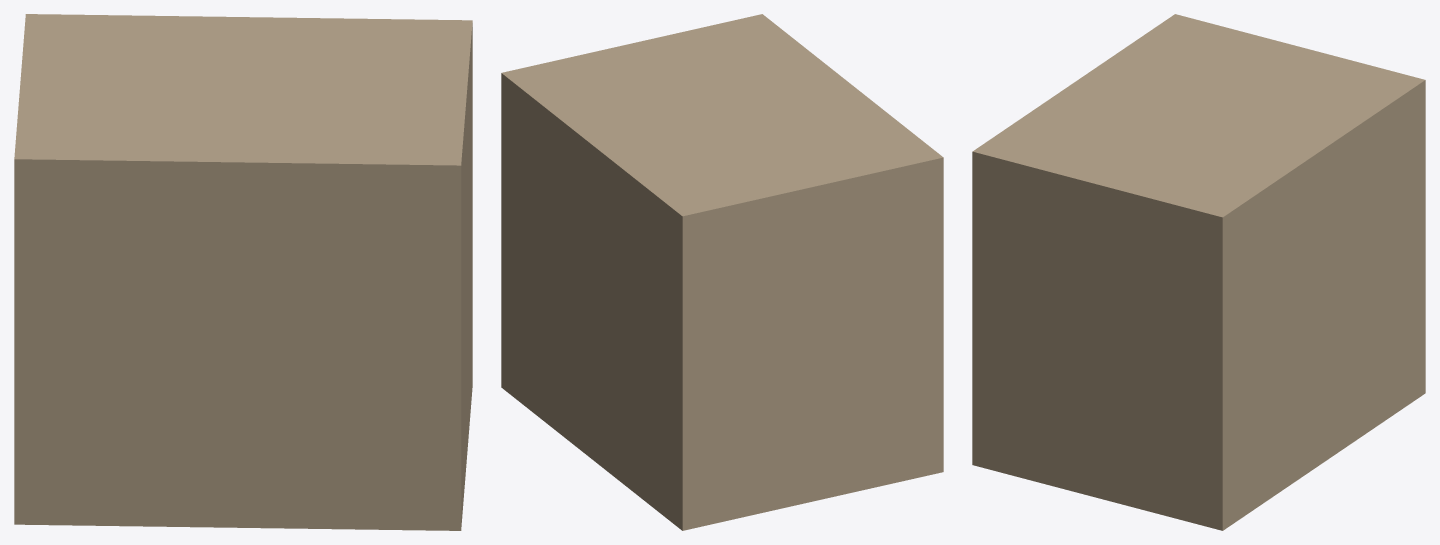
Rendered from bld_101353680.dae.
3 views of the same model, side by side, from view 1: azimuth 30°, elevation 25°; view 2: azimuth 150°, elevation 25°; view 3: azimuth 270°, elevation 25° (orthographic). The views are drawn at different scales.
Parts seen in each view (by area): view 1: bld_101353680; view 2: bld_101353680; view 3: bld_101353680.
Boxes of the visible parts, <box> form: bld_101353680: <box>14,14,472,530</box>; bld_101353680: <box>501,14,943,530</box>; bld_101353680: <box>972,14,1425,530</box>.
Size of the model in its own units: 11.14 by 10.48 by 8.
